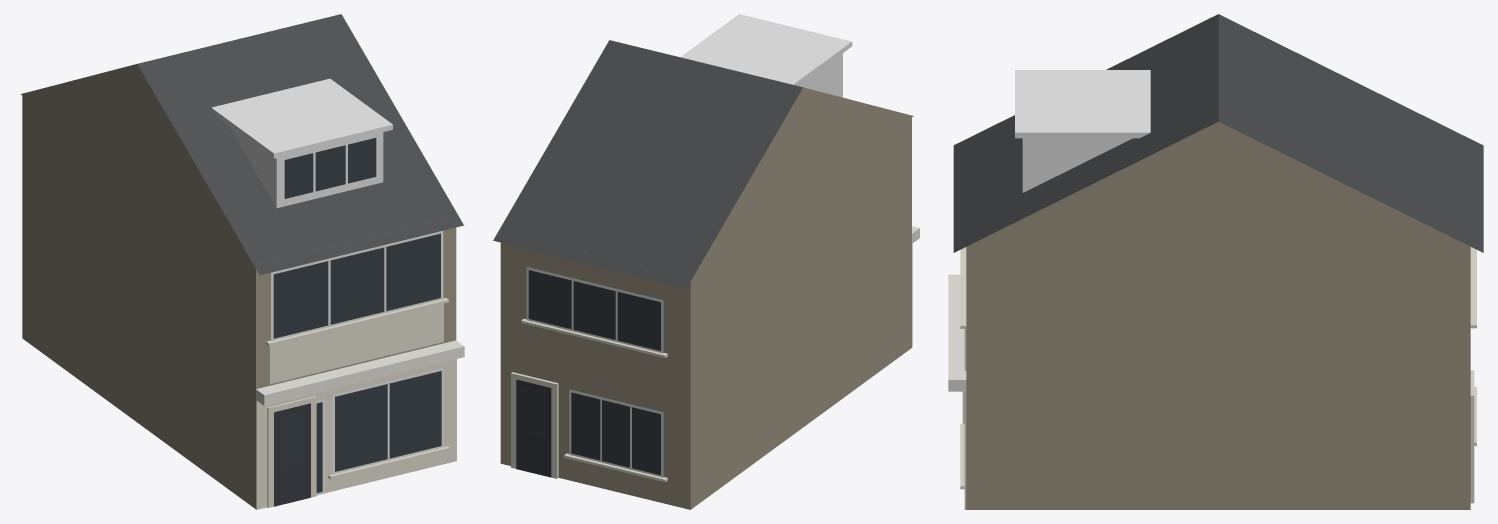
File: ws-dk-1971__pale__2__gable__long__solid.glb
3 views of the same model, side by side, from view 1: azimuth 30°, elevation 25°; view 2: azimuth 150°, elevation 25°; view 3: azimuth 270°, elevation 25° (orthographic). The views are drawn at different scales.
Visible parts, largest first — view 1: ws-dk-1971__pale__2__gable__long__solid; view 2: ws-dk-1971__pale__2__gable__long__solid; view 3: ws-dk-1971__pale__2__gable__long__solid.
Part boxes in pixels (<box>): ws-dk-1971__pale__2__gable__long__solid: <box>20,14,464,509</box>; ws-dk-1971__pale__2__gable__long__solid: <box>493,14,919,509</box>; ws-dk-1971__pale__2__gable__long__solid: <box>948,14,1483,509</box>.
Bounding box in the file's own units: 4.98 × 8.4 × 10.46.
